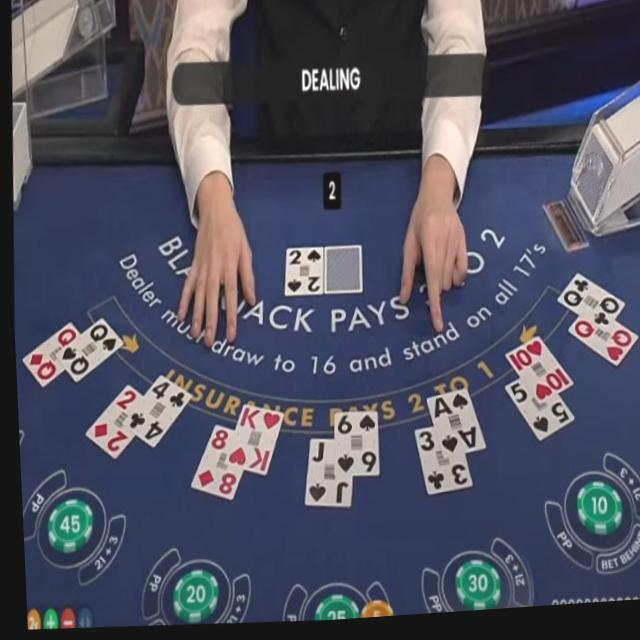Card-10: (501, 341, 570, 412)
Card-2: (81, 384, 138, 460), (281, 250, 320, 299)
Card-3: (410, 432, 467, 500)
Card-4: (120, 375, 187, 450)
Card-5: (500, 386, 570, 448)
Card-6: (330, 415, 373, 481)
Card-8: (185, 426, 238, 503)
Card-A: (421, 393, 481, 464)
Card-J: (300, 442, 347, 511)
Card-K: (220, 405, 279, 480)
Card-Q: (54, 318, 119, 384), (553, 278, 622, 340), (18, 320, 76, 388), (564, 325, 635, 376)
